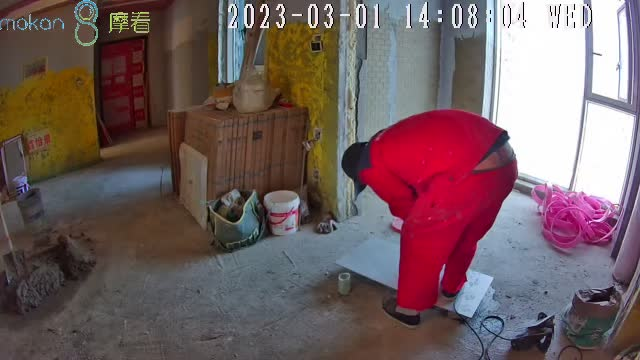people: (342, 108, 518, 329)
window: (493, 1, 640, 210)
